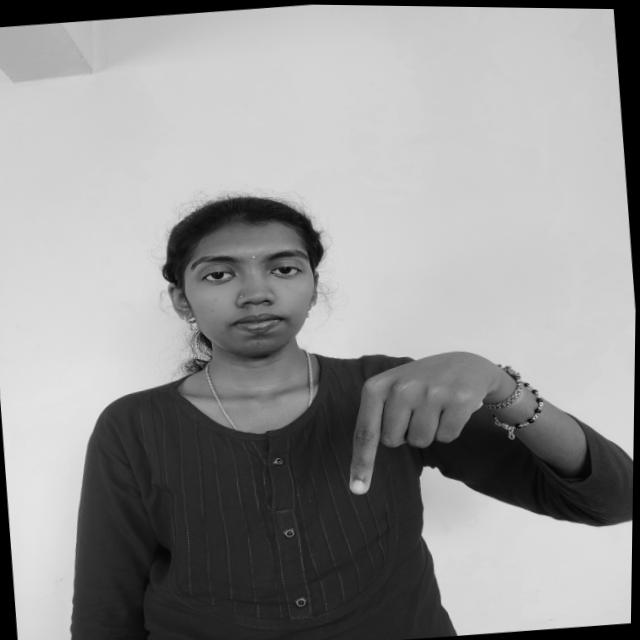Now: (330, 335, 515, 503)
